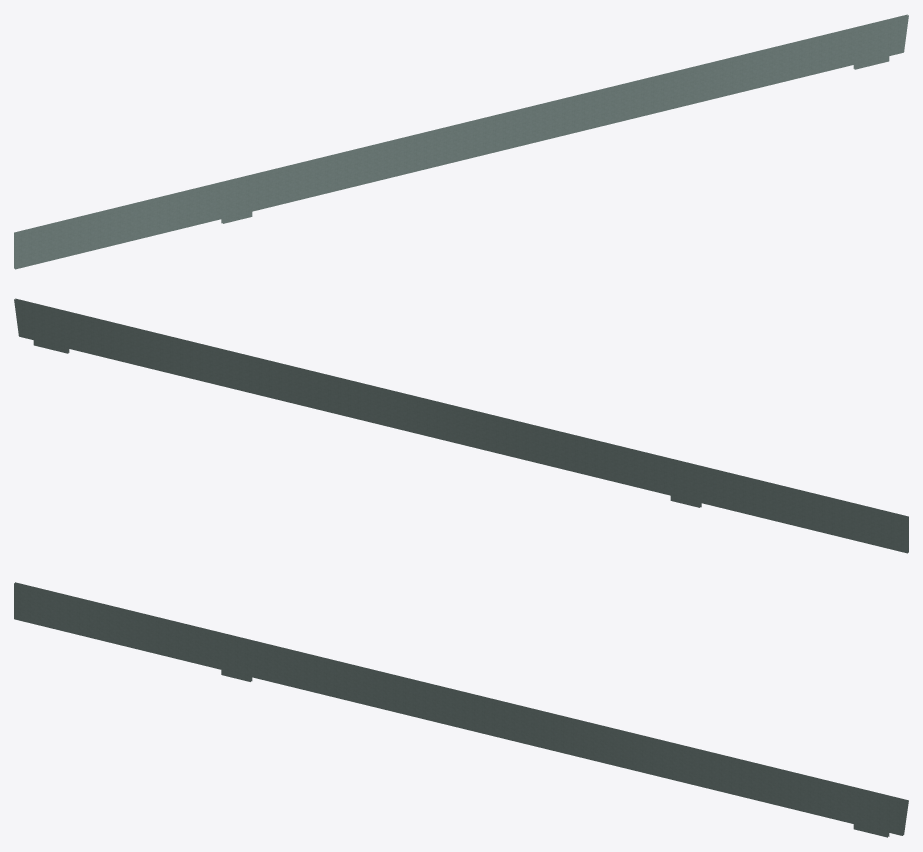
File: floor_4.obj
The picture shows the model from 3 angles, top to bottom: view 1: azimuth 30°, elevation 25°; view 2: azimuth 150°, elevation 25°; view 3: azimuth 330°, elevation 25°; orthographic projection.
Visible parts, largest first — view 1: floor_4; view 2: floor_4; view 3: floor_4.
Part boxes in pixels (box(x1,y1,x2,y2)): floor_4: box(14, 14, 908, 269); floor_4: box(14, 298, 908, 553); floor_4: box(14, 582, 908, 837).
Bounding box in the file's own units: 45.25 × 2 × 0.1.
1 material, 1 textured.
